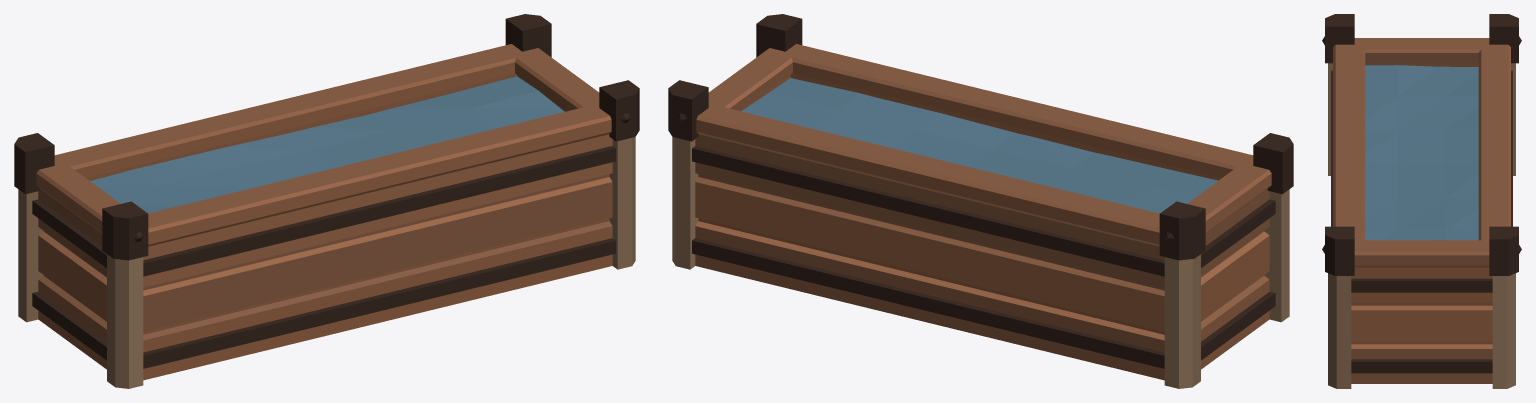
Rendered from water-trough-df3ced.glb.
3 renders of one model, left to right at view 1: azimuth 30°, elevation 25°; view 2: azimuth 150°, elevation 25°; view 3: azimuth 270°, elevation 25°, orthographic. The views are drawn at different scales.
Parts seen in each view (by area): view 1: trough-body; view 2: trough-body; view 3: trough-body.
Part boxes in pixels (left/top/right/bottom): trough-body: left=14, top=14, right=639, bottom=388; trough-body: left=668, top=14, right=1293, bottom=388; trough-body: left=1322, top=14, right=1521, bottom=388.
Size of the model in its own units: 1.6 by 0.5 by 0.6.
